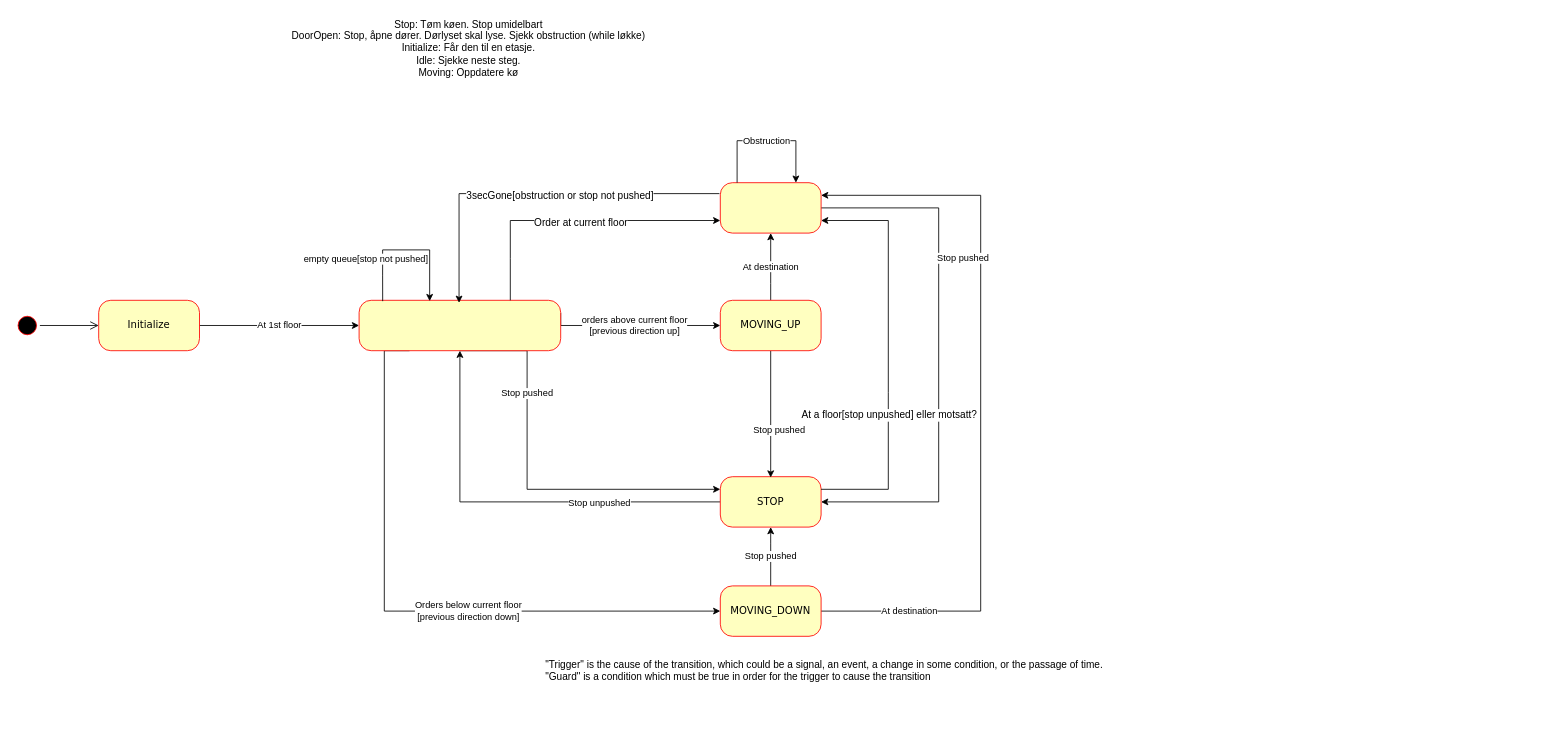
This 1567x751 diagram has some shape labels left out. The shapes that lost their labels are listed below. From the top down, each one's centre as x and y in pixels, then its label:
At [770,207]: "DOOR_OPEN".
At [459,325]: "IDLE".
